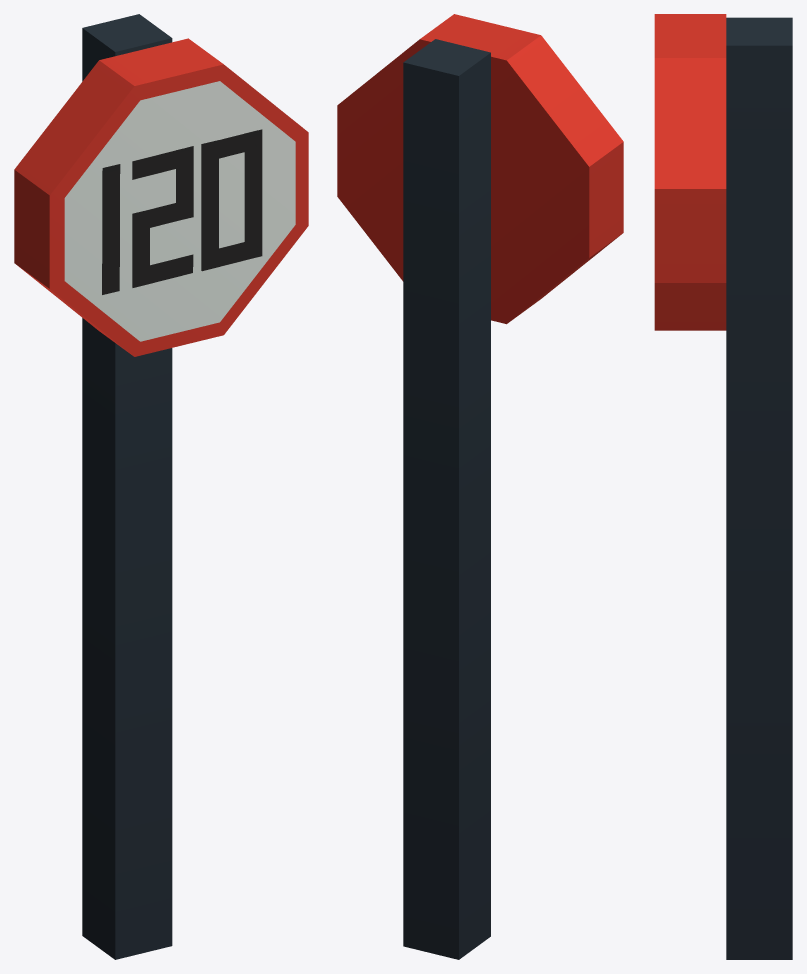
File: Road_sign_max_Speed_120.fbx
The picture shows the model from 3 angles, left to right: view 1: azimuth 30°, elevation 25°; view 2: azimuth 150°, elevation 25°; view 3: azimuth 270°, elevation 25°; orthographic projection. The views are drawn at different scales.
Visible parts, largest first — view 1: Road_sign_max_Speed_120; view 2: Road_sign_max_Speed_120; view 3: Road_sign_max_Speed_120.
Boxes of the visible parts, bbox=[...] form: Road_sign_max_Speed_120: bbox=[14, 14, 308, 959]; Road_sign_max_Speed_120: bbox=[337, 14, 623, 959]; Road_sign_max_Speed_120: bbox=[654, 14, 792, 959].
Bounding box in the file's own units: 107 × 359 × 49.94.
